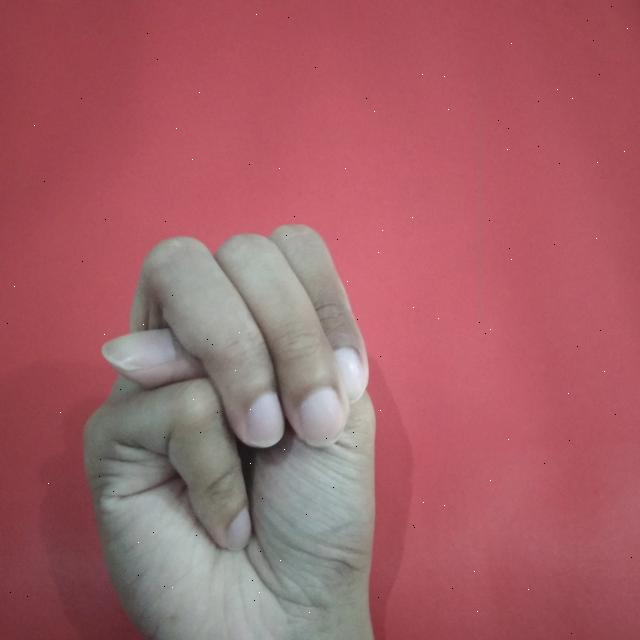M: (76, 215, 384, 640)
